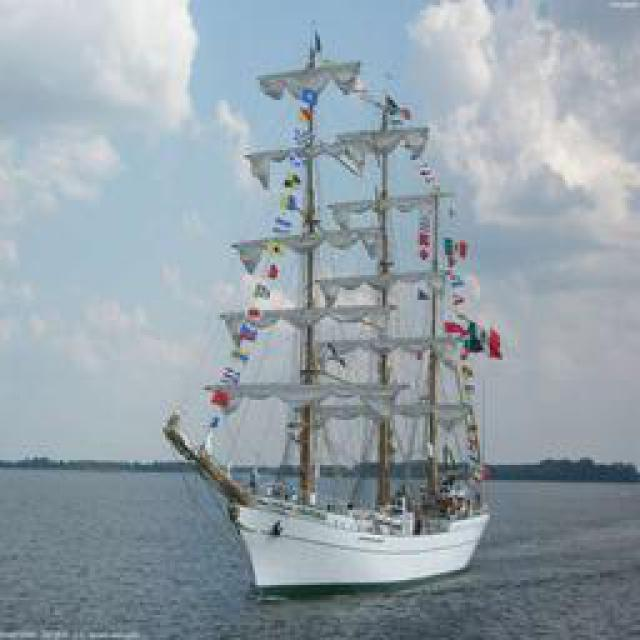Ship: (192, 5, 512, 603)
